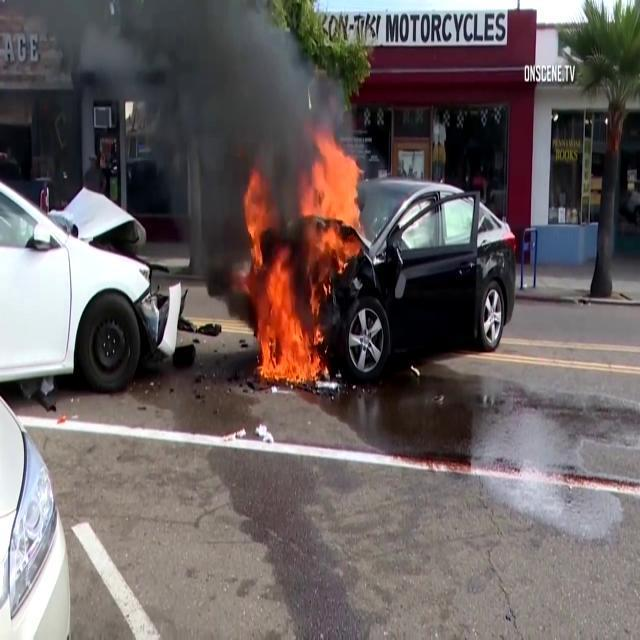Fire: (232, 188, 320, 394), (299, 138, 373, 286)
Smoke: (92, 9, 363, 272)
